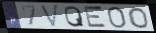7: (20, 5, 38, 27)
E: (83, 5, 109, 30)
O: (106, 6, 128, 29), (127, 7, 150, 29)
Q: (64, 5, 87, 28)
V: (39, 4, 60, 29)
